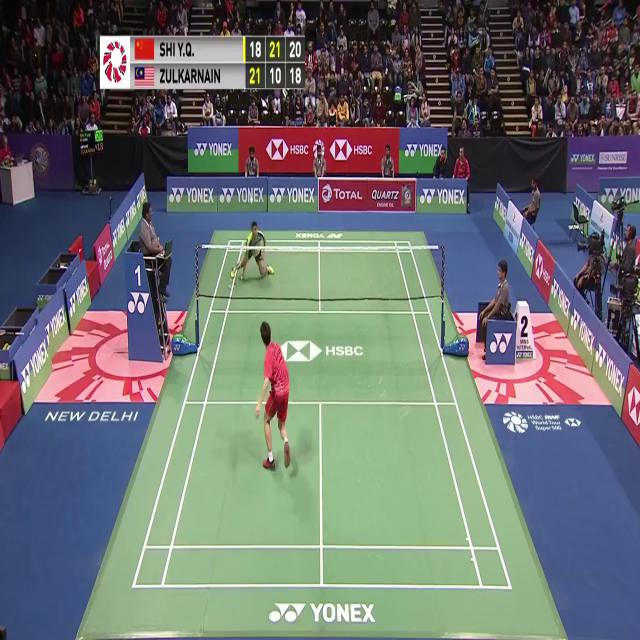Shuttlecock: (249, 197, 255, 208)
